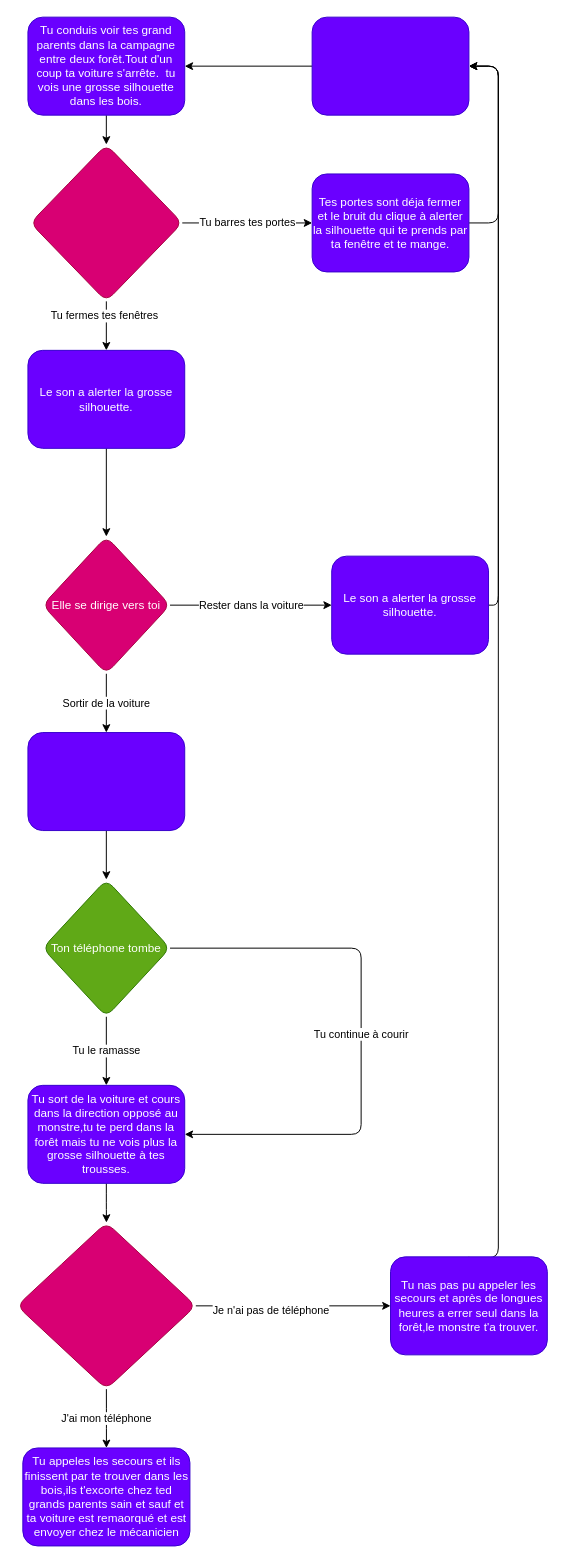
This 565x1563 diagram has some shape labels left out. The box of each missing label's shape, as (x1, y1, x2, y2) in pixels:
Tu dois appeler à l'aide pour qu'on te retrouve: (16, 1222, 196, 1389)
Tu sort de la voiture et cours dans la direction opposé au monstre: (27, 732, 185, 831)
Tu vois une grosse silhouette dans les bois.: (29, 144, 182, 301)
Vous êtes mort: (311, 16, 469, 115)
